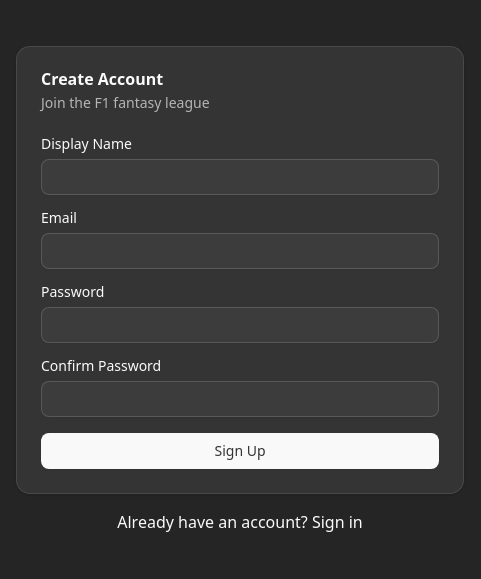
Test: SignUpForm › shows error if password is too short
The width and height of the screenshot is (481, 579).
Type "Test User" into the field labelled "Display Name".
click(240, 177); type("Test User")  # box [41,159,439,195]
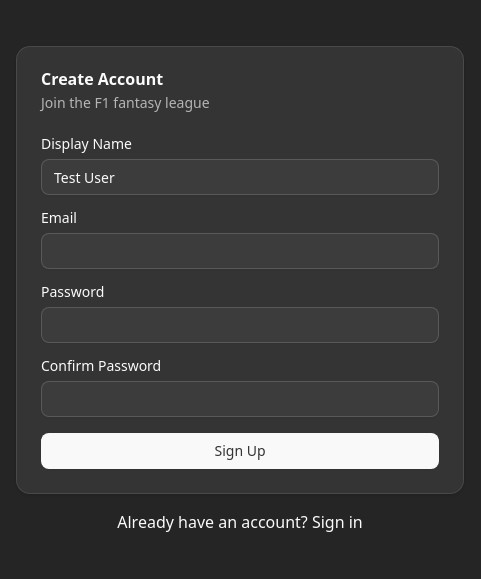
Type "test@example.com" into the field labelled "Email".
click(240, 251); type("test@example.com")  # box [41,233,439,269]
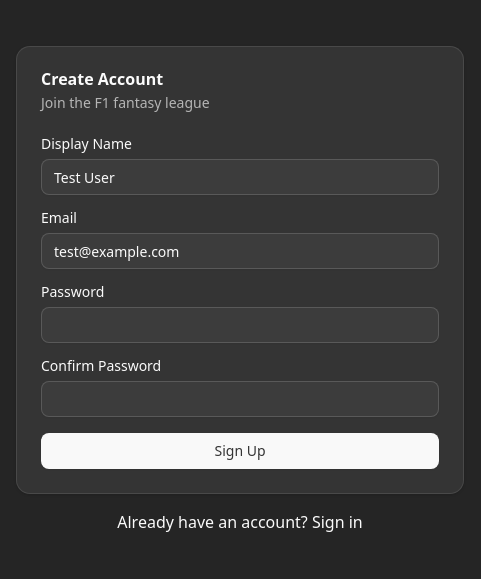
Type "123" into the password field labelled "Password".
click(240, 325); type("123")  # box [41,307,439,343]
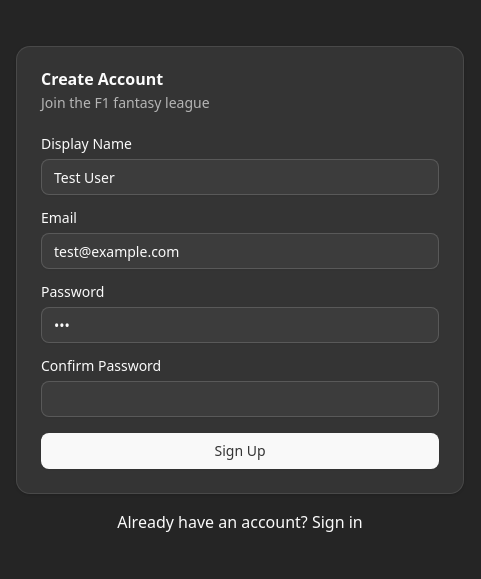
Type "123" into the password field labelled "Confirm Password".
click(240, 399); type("123")  # box [41,381,439,417]
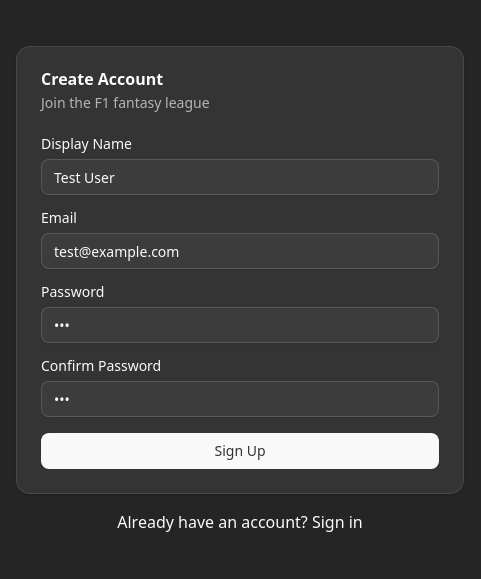
Click the button "Sign Up".
click(240, 451)  # box [41,433,439,469]
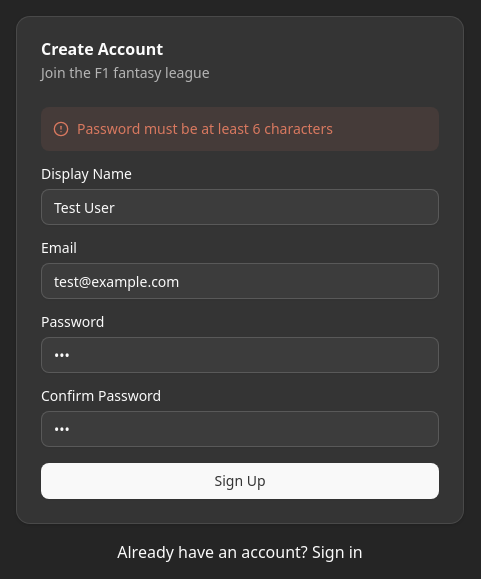
Now the message reads "Password must be at least 6 characters", box [77,119,333,138]
